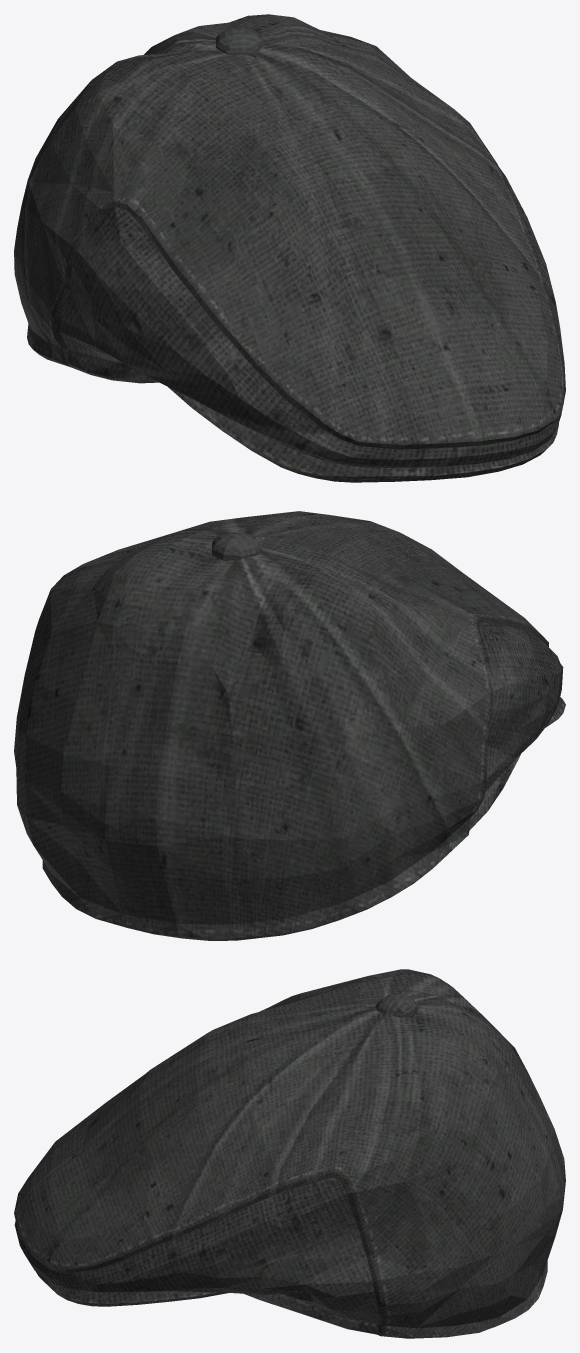
The model's file is HK_BERET_GREY.glb.
The picture shows the model from 3 angles, top to bottom: view 1: azimuth 30°, elevation 25°; view 2: azimuth 150°, elevation 25°; view 3: azimuth 270°, elevation 25°; orthographic projection. The views are drawn at different scales.
Parts seen in each view (by area): view 1: HK_BERET_GREY; view 2: HK_BERET_GREY; view 3: HK_BERET_GREY.
Part boxes in pixels (bbox=[...]): HK_BERET_GREY: bbox=[14, 14, 565, 482]; HK_BERET_GREY: bbox=[14, 511, 565, 940]; HK_BERET_GREY: bbox=[14, 969, 565, 1338].
Bounding box in the file's own units: 0.2344 × 0.1761 × 0.3107.
Materials: 1 (1 with a texture image).
